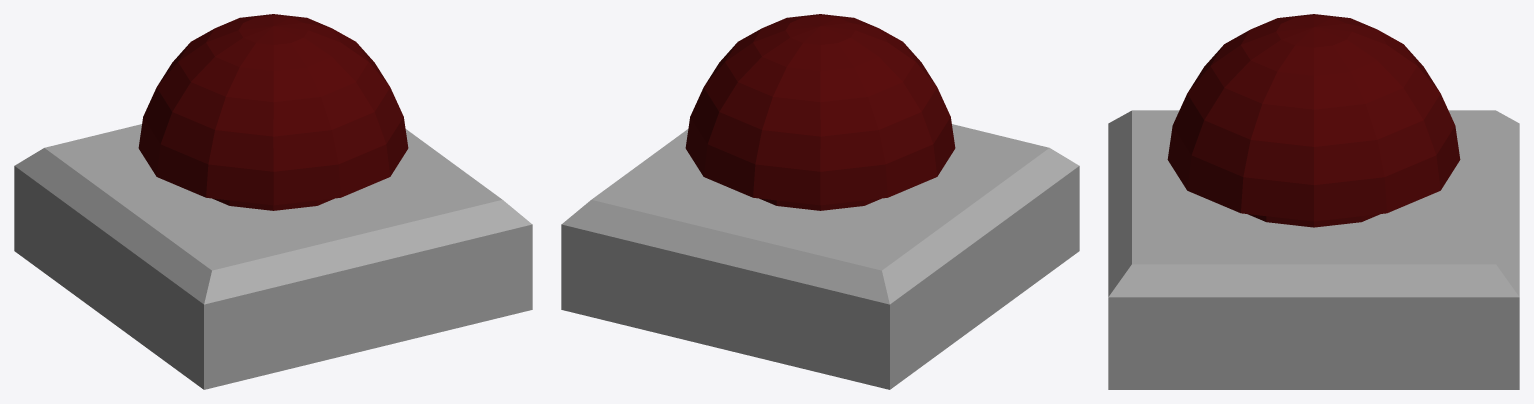
The model's file is Boton.fbx.
3 renders of one model, left to right at view 1: azimuth 30°, elevation 25°; view 2: azimuth 150°, elevation 25°; view 3: azimuth 270°, elevation 25°, orthographic. The views are drawn at different scales.
Visible parts, largest first — view 1: BaseBoton, BotonRojo; view 2: BaseBoton, BotonRojo; view 3: BaseBoton, BotonRojo.
Boxes of the visible parts, bbox=[...] form: BaseBoton: bbox=[14, 124, 532, 389]; BotonRojo: bbox=[138, 14, 408, 210]; BaseBoton: bbox=[561, 124, 1079, 389]; BotonRojo: bbox=[685, 14, 955, 210]; BaseBoton: bbox=[1108, 110, 1519, 389]; BotonRojo: bbox=[1167, 14, 1460, 227].
Size of the model in its own units: 0.2384 by 0.1764 by 0.2384.
